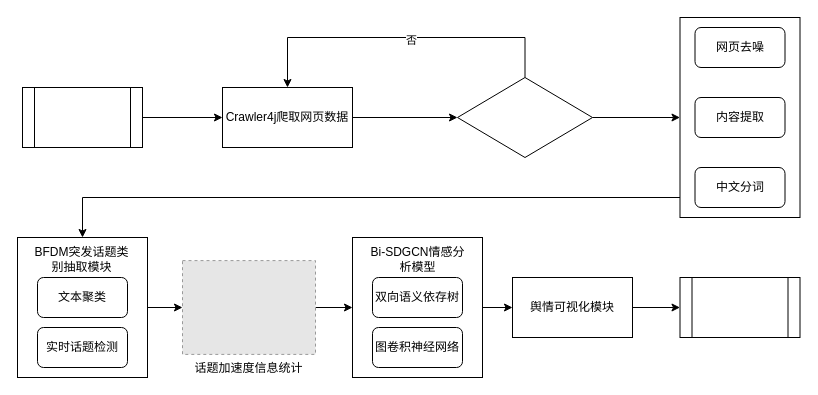
This 818x395 diagram has some shape labels left out. Grey dashed boxes stand in for pictures. The shapes that lost their labels are listed below. From the top down, each one's centre as x and y in pixels, then its label:
At point 82,117: "开始".
At point 524,117: "爬取任务是否完成？".
At point 739,307: "结束".
